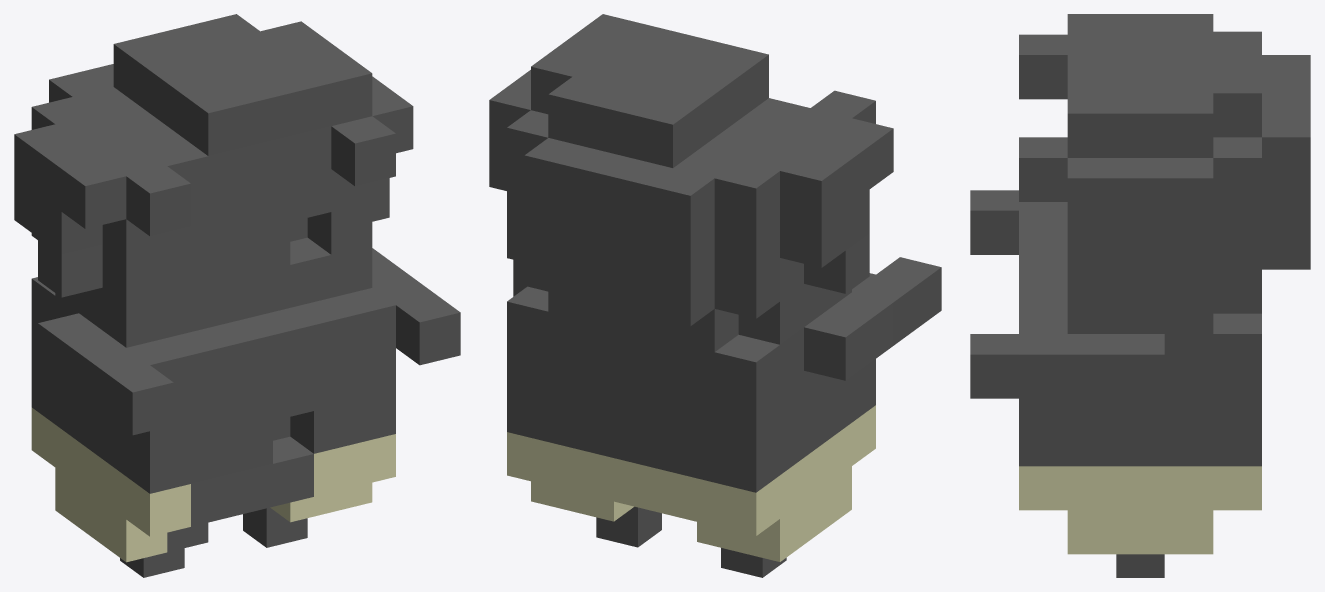
The model's file is chr_zombie3.obj.
3 renders of one model, left to right at view 1: azimuth 30°, elevation 25°; view 2: azimuth 150°, elevation 25°; view 3: azimuth 270°, elevation 25°, orthographic. The views are drawn at different scales.
Bounding box in the file's own units: 8 × 11 × 7.
